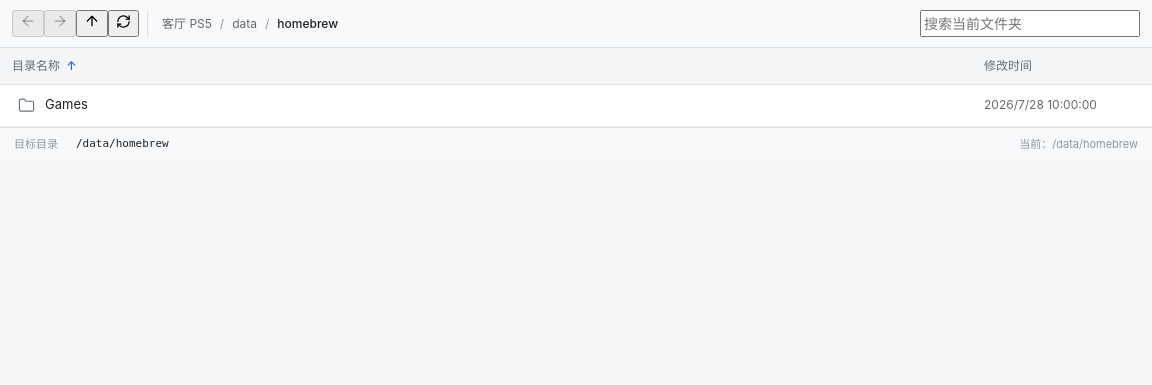
Test: File Browser › selects a picker target on one click and navigates only on double click
Step 1. Click the row "Games 2026/7/28 10:00:00" → (576, 105), box top-left (0, 84), bottom-right (1151, 126)
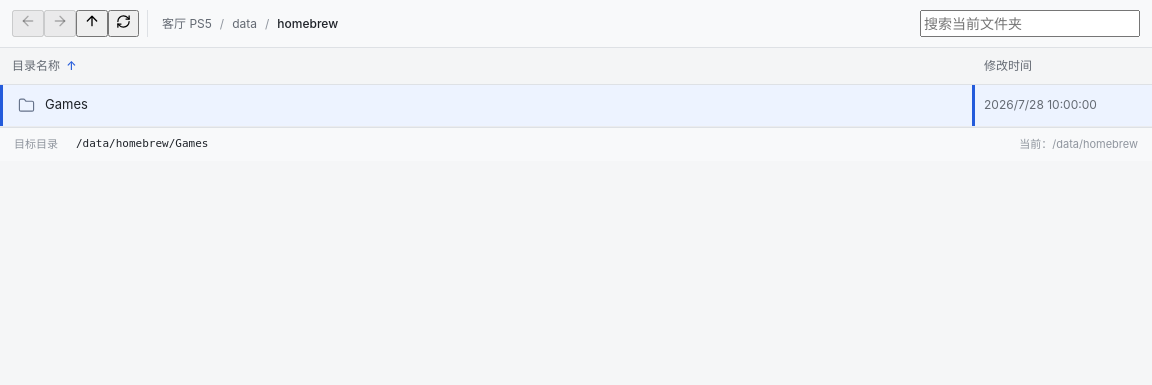
Expected: the navigation bar with test id "ps5-breadcrumb" reads "客厅 PS5 / data / homebrew", top-left (158, 12), bottom-right (342, 34)
Result: the row "Games 2026/7/28 10:00:00" has class "is-target"
Step 2. Double-click the row "Games 2026/7/28 10:00:00" → (576, 105), box top-left (0, 84), bottom-right (1151, 126)
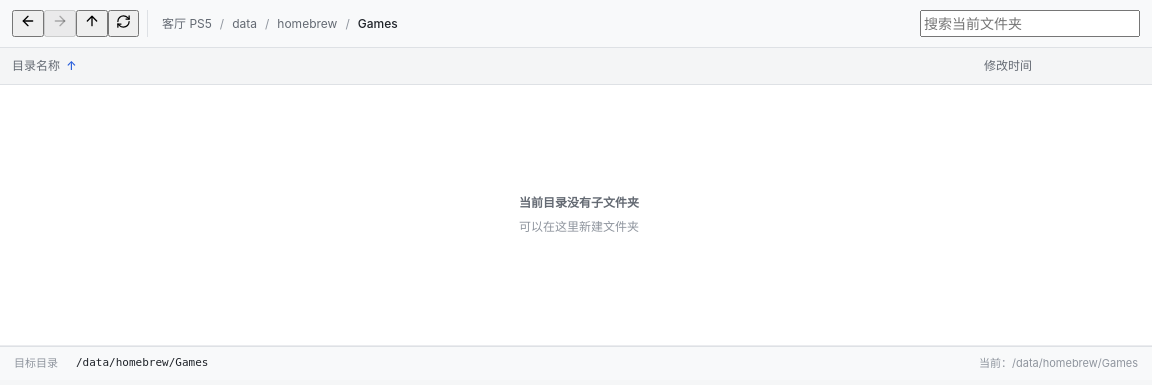
Result: the navigation bar with test id "ps5-breadcrumb" reads "客厅 PS5 / data / homebrew / Games" at top-left (158, 12), bottom-right (402, 34)
